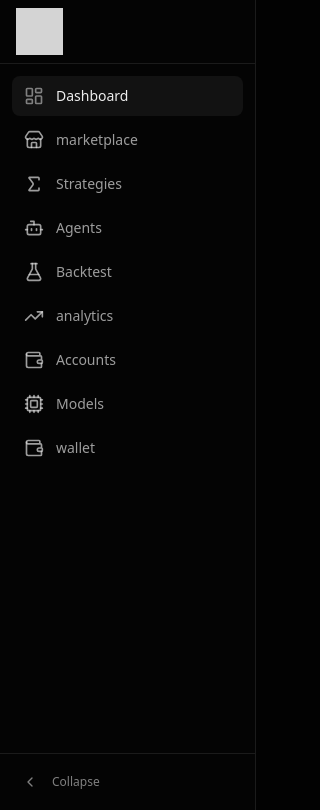
AppSidebar › toggles collapse state when button clicked
expect the text "Collapse" is shown: met, box [52, 774, 100, 790]
Click to collapse
Click the button "Collapse" at (128, 782), box [12, 766, 243, 798]
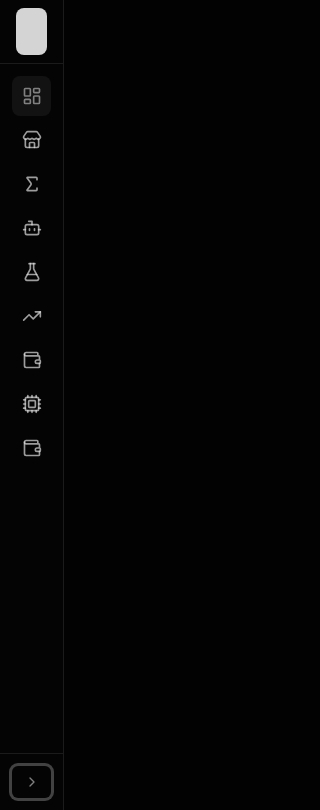
expect the text "Collapse" is gone: met
